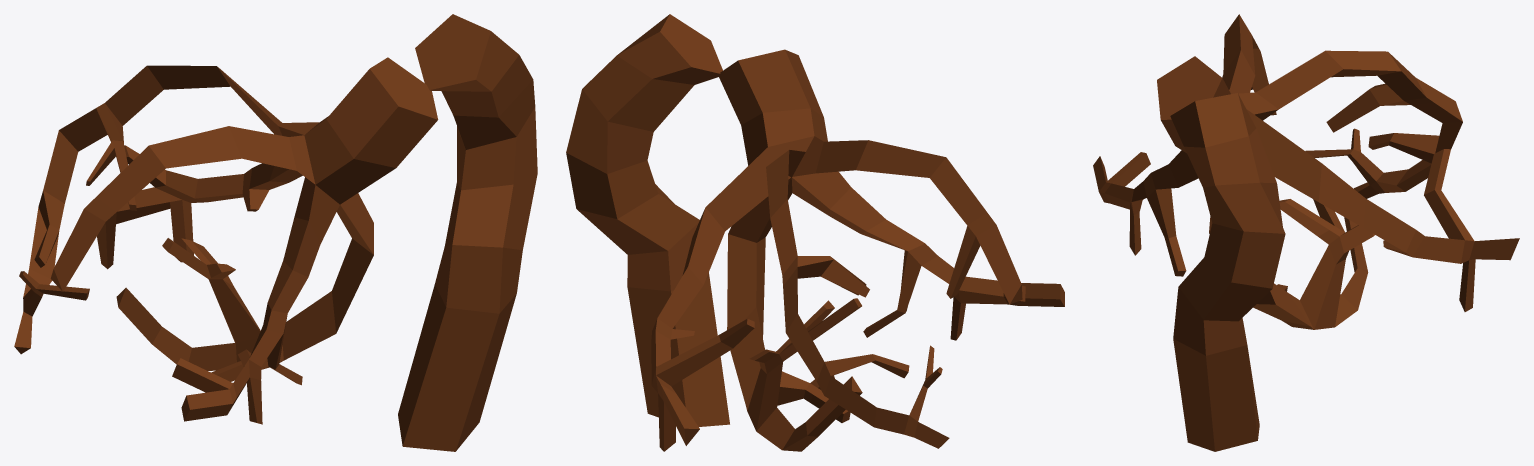
The model's file is Arbol3.fbx.
The picture shows the model from 3 angles, left to right: view 1: azimuth 30°, elevation 25°; view 2: azimuth 150°, elevation 25°; view 3: azimuth 270°, elevation 25°; orthographic projection. The views are drawn at different scales.
Parts seen in each view (by area): view 1: Arbol3; view 2: Arbol3; view 3: Arbol3.
Part boxes in pixels (left/top/right/bottom): Arbol3: left=14, top=14, right=537, bottom=451; Arbol3: left=566, top=14, right=1064, bottom=451; Arbol3: left=1093, top=14, right=1519, bottom=451.
Size of the model in its own units: 734 by 605 by 649.
